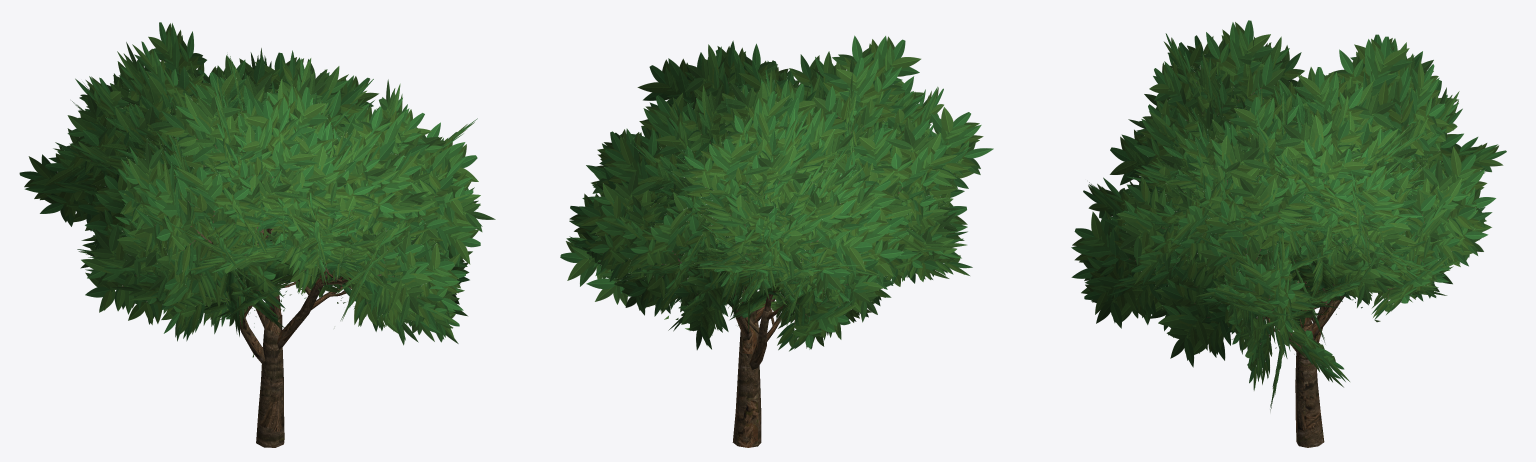
File: veg_tree_shade_b.glb
The picture shows the model from 3 angles, left to right: view 1: azimuth 30°, elevation 25°; view 2: azimuth 150°, elevation 25°; view 3: azimuth 270°, elevation 25°; orthographic projection. The views are drawn at different scales.
Visible parts, largest first — view 1: Leaves, Trunk; view 2: Leaves, Trunk; view 3: Leaves, Trunk.
Boxes of the visible parts, box(x1,y1,x2,y2) form: Leaves: box(19, 22, 495, 357); Trunk: box(211, 212, 351, 447); Leaves: box(560, 35, 993, 351); Trunk: box(708, 230, 860, 447); Leaves: box(1071, 20, 1506, 411); Trunk: box(1253, 225, 1344, 447).
Bounding box in the file's own units: 33.35 × 30.18 × 33.06.
Materials: 2 (2 with a texture image).
